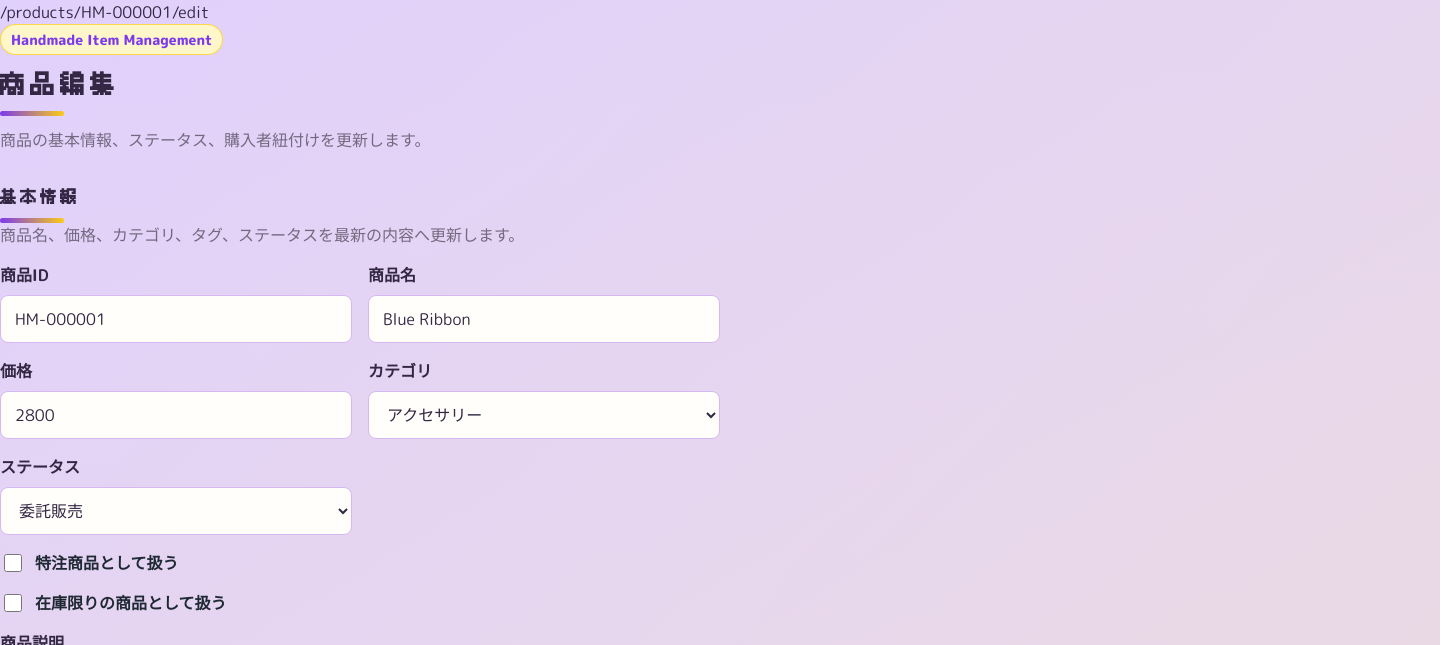
ProductEditPage › maps server customer errors to the purchaser field
Check: the field showing "Blue Ribbon" is shown, box 368,295 -> 720,343
Select "販売済" in the dropdown labelled "ステータス" at (176, 511), box 0,487 -> 352,535
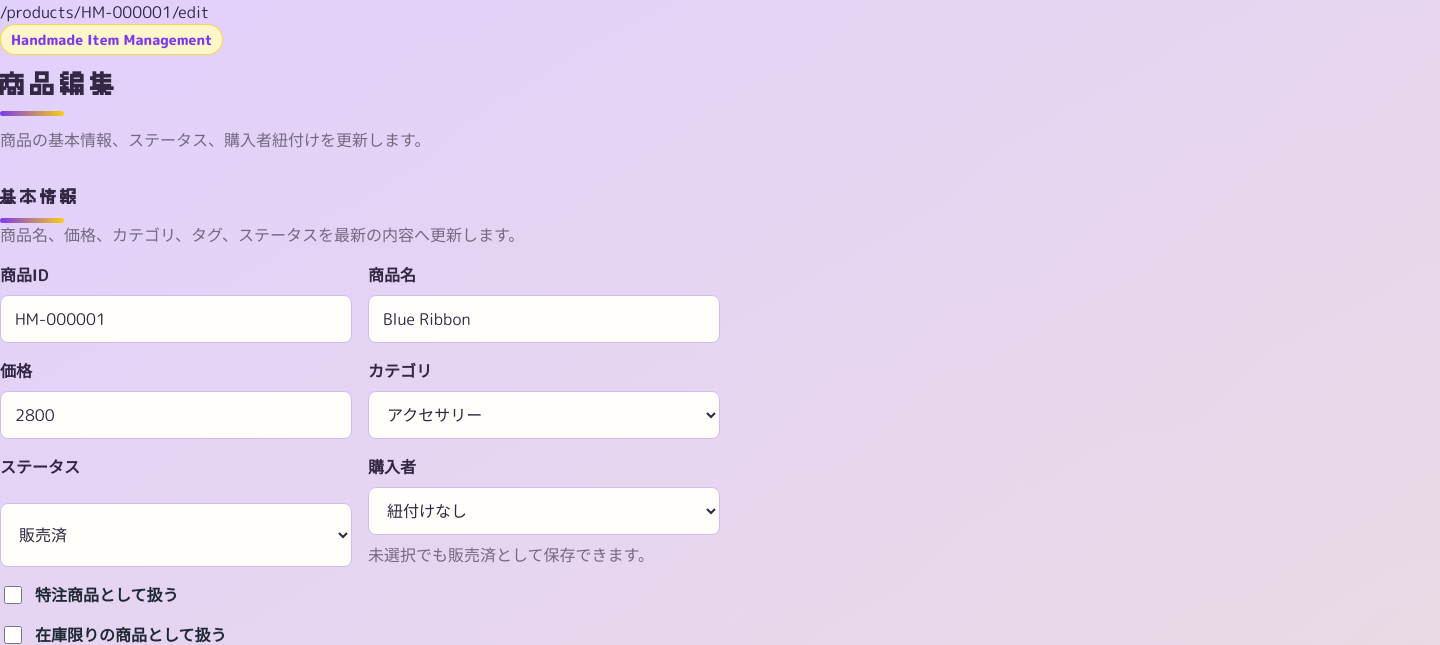
Select "山田 花子" in the dropdown labelled "購入者" at (544, 511), box 368,487 -> 720,535
(page scrolled)
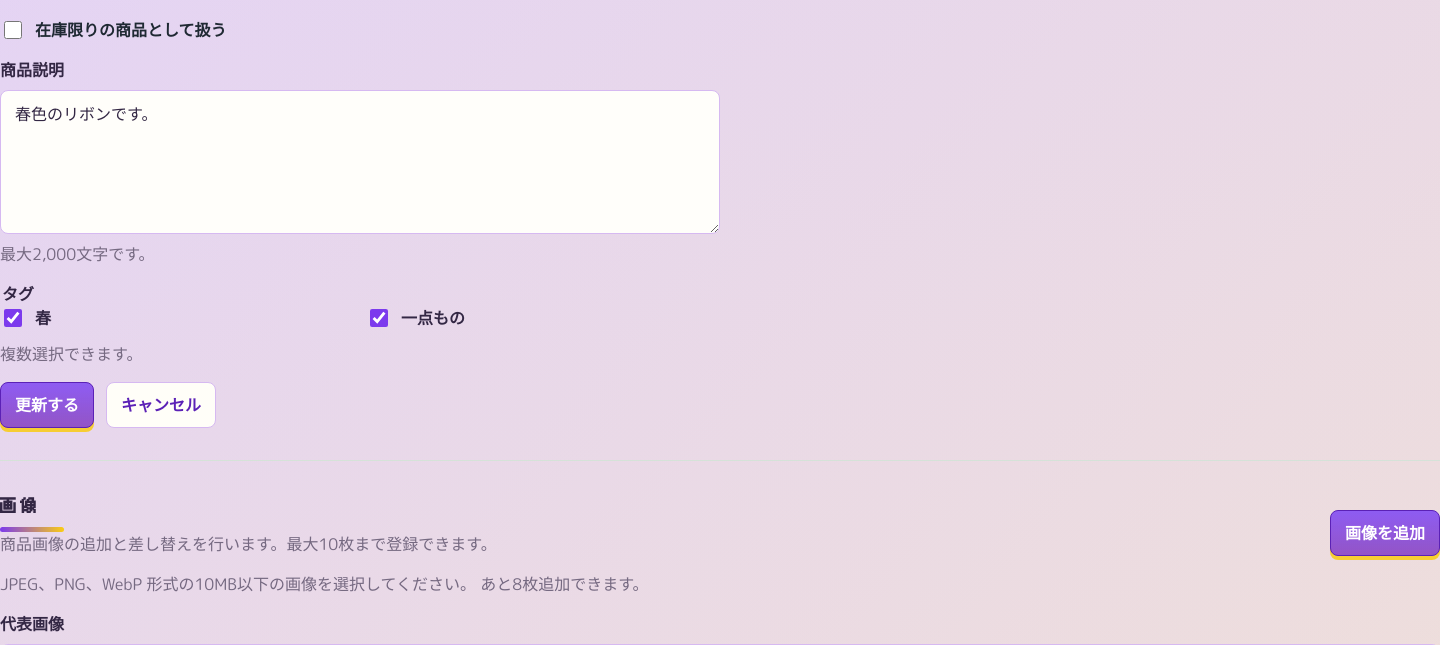
Click the button "更新する".
click(47, 405)  # box 0,382 -> 94,428
(page scrolled)
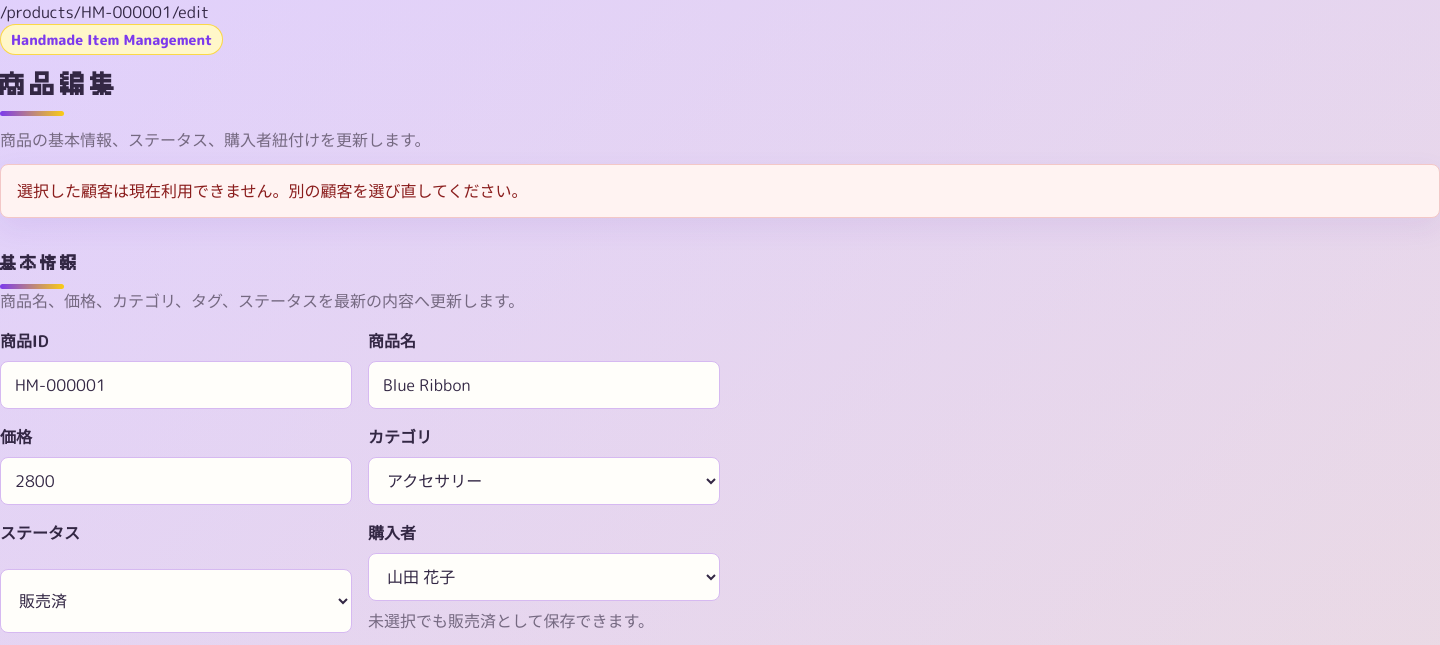
Check: the text "選択した顧客は現在利用できません。別の顧客を選び直してください。" is shown, box 17,180 -> 528,202
